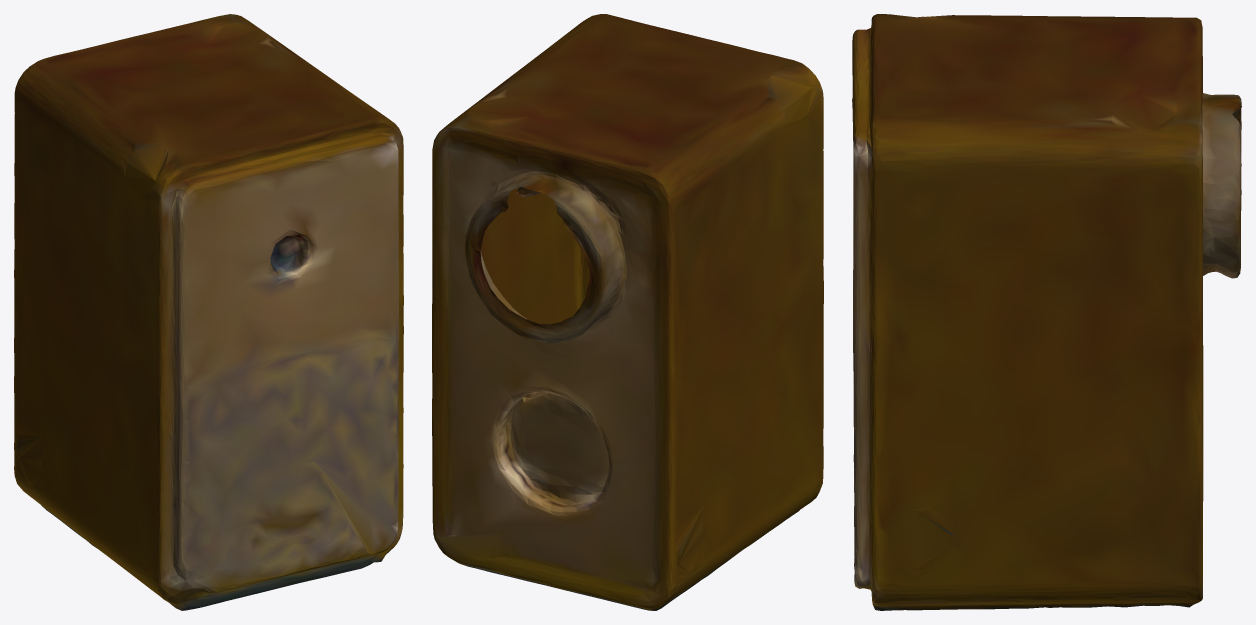
The model's file is scan.obj.
3 renders of one model, left to right at view 1: azimuth 30°, elevation 25°; view 2: azimuth 150°, elevation 25°; view 3: azimuth 270°, elevation 25°, orthographic. The views are drawn at different scales.
Parts seen in each view (by area): view 1: scan.ply; view 2: scan.ply; view 3: scan.ply.
Boxes of the visible parts, x1=… form: scan.ply: x1=14, y1=14, x2=403, y2=610; scan.ply: x1=432, y1=14, x2=823, y2=610; scan.ply: x1=852, y1=14, x2=1241, y2=610.
Size of the model in its own units: 0.0611 by 0.1068 by 0.0765.
